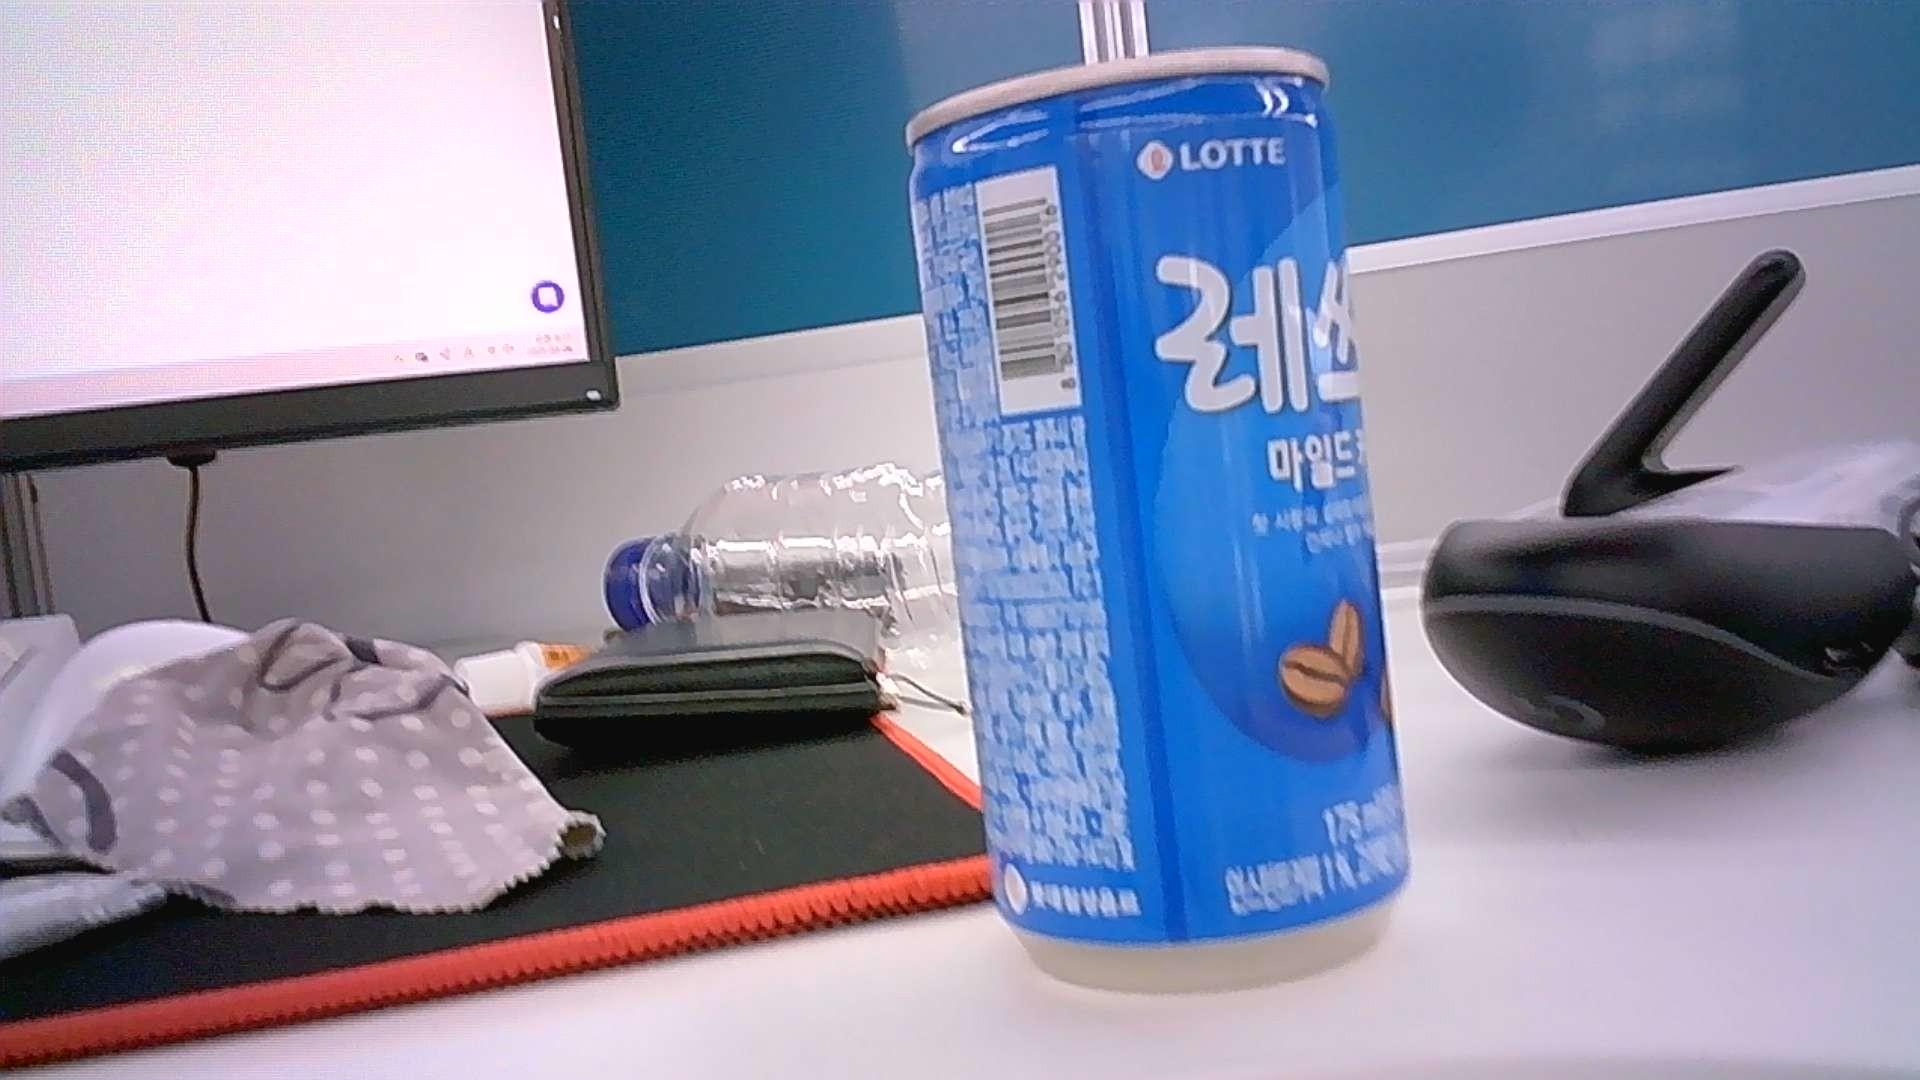letsbe: (907, 45, 1414, 956)
